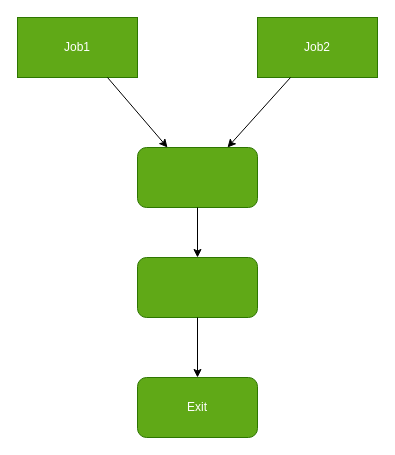
Some shapes in this 395 by 455 pixel diagram are drawn without their labels. Here are the shapes that lost their labels. From the top down, the centre of each, then its label:
At [197,177]: "Queue(FIFO)".
At [197,287]: "Server".
